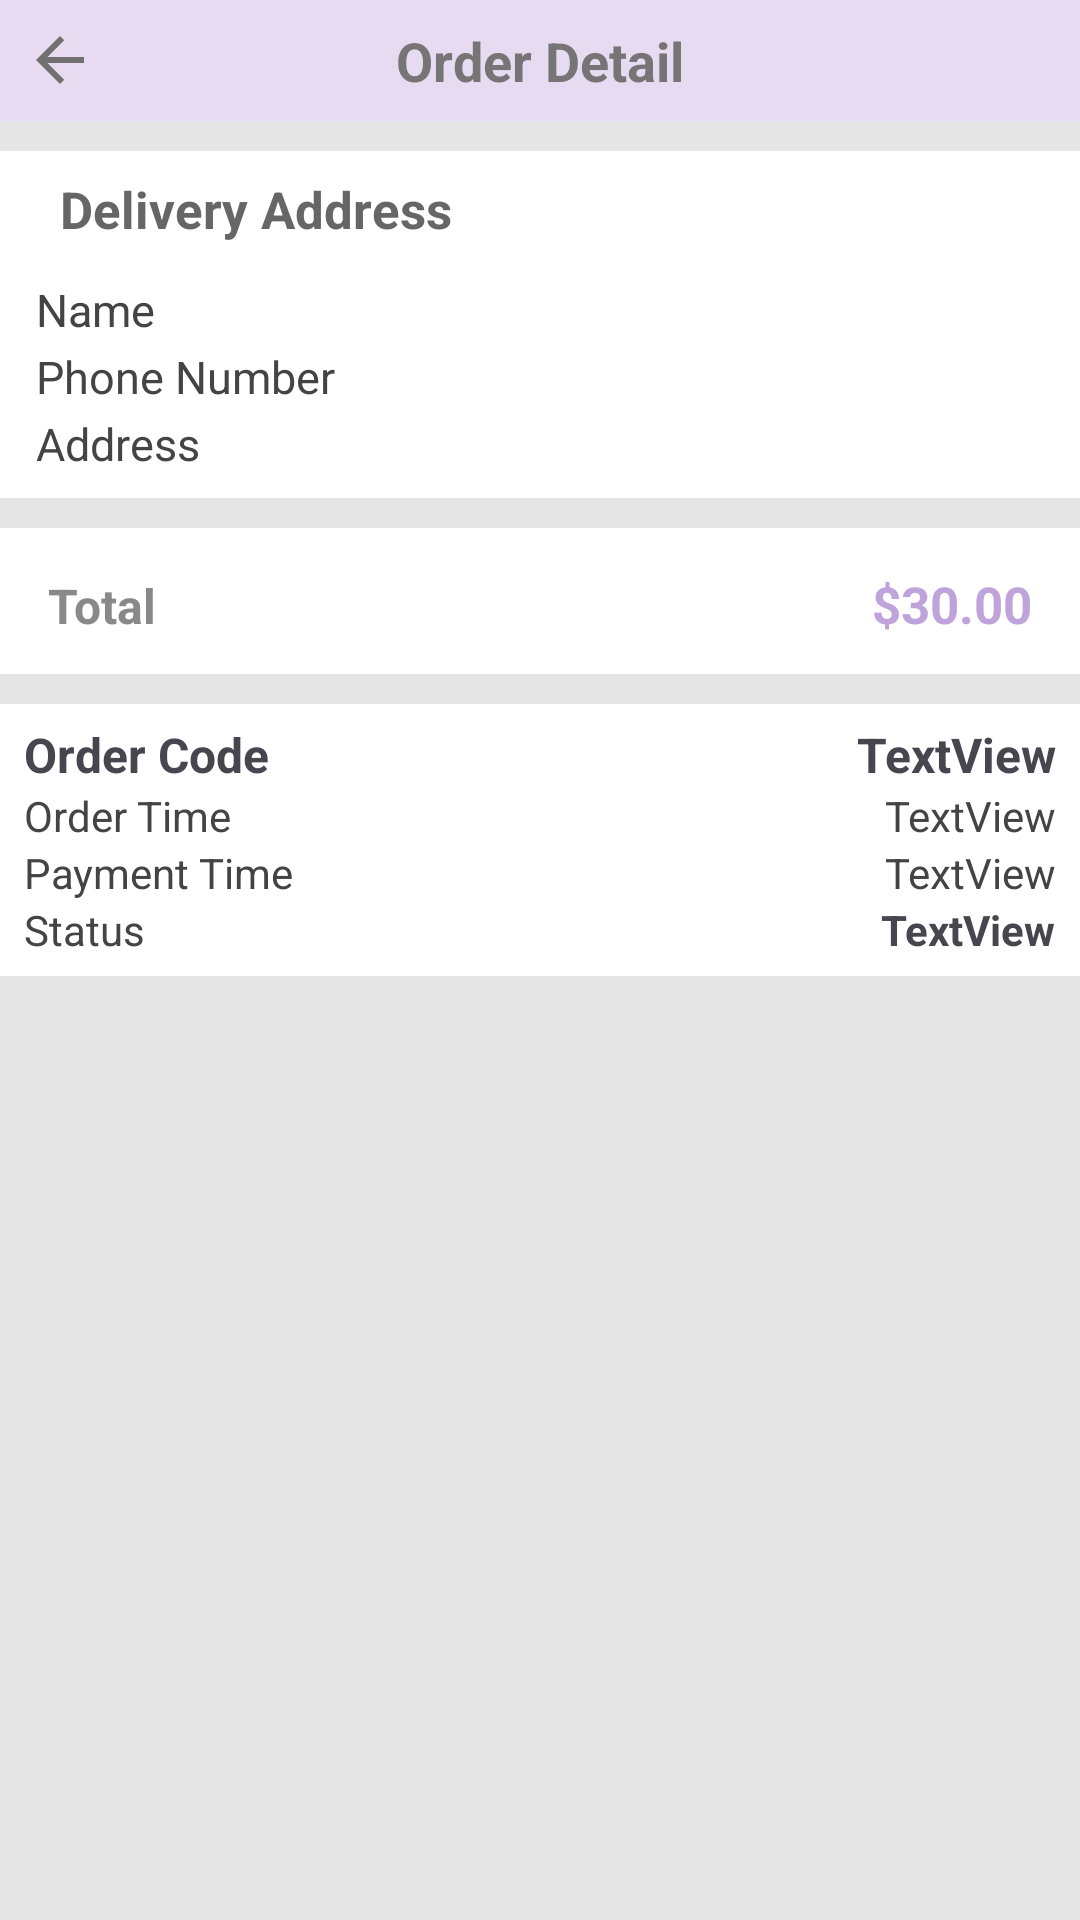

Screen size 1080 x 1920. Icon name, then its box in pixels as detection(x1, y1, x2, y2):
cart back: detection(36, 36, 84, 84)
